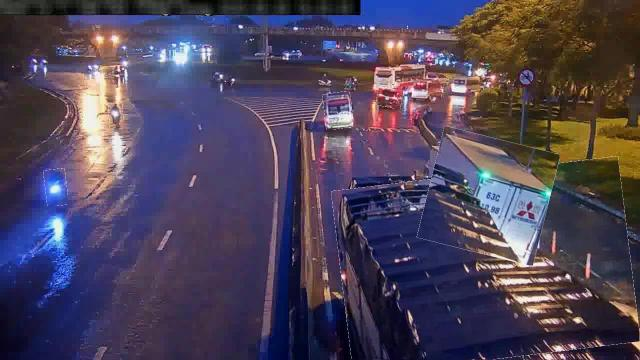Bike: (44, 169, 68, 206), (108, 104, 124, 128)
Bus: (323, 92, 352, 128)
Car: (377, 88, 403, 108)
Truck: (336, 164, 636, 360), (422, 132, 554, 260)
